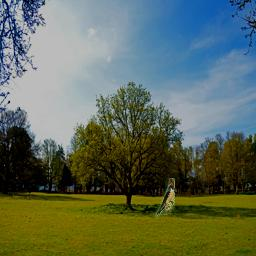Swallow: (155, 178, 175, 218)
